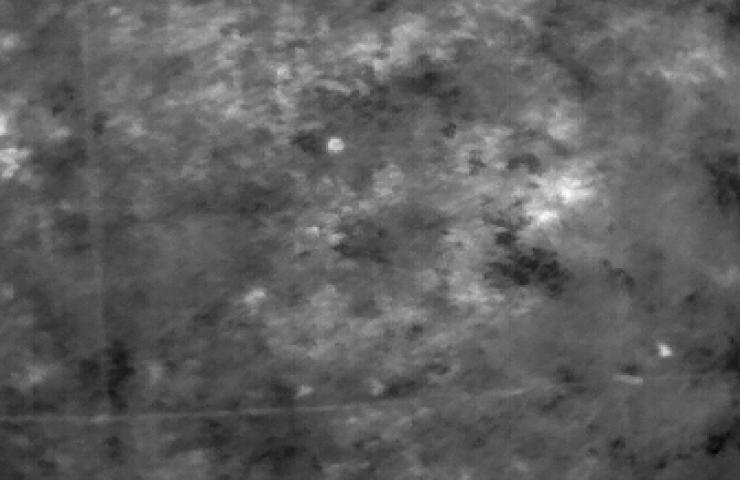landmines: (324, 132, 352, 158)
